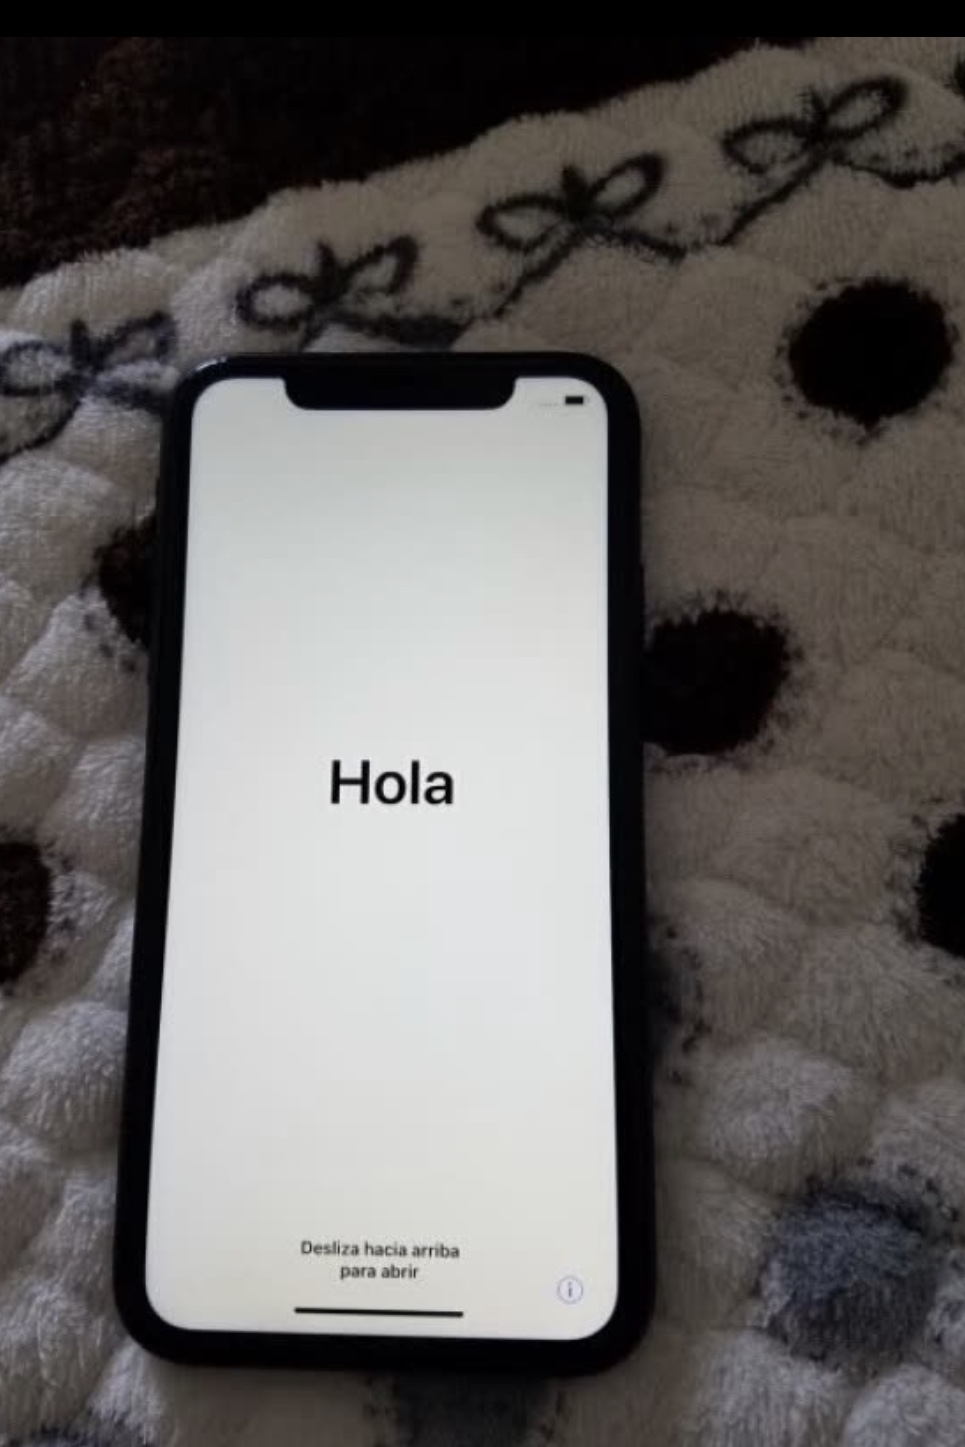mobil: (124, 333, 656, 1364)
